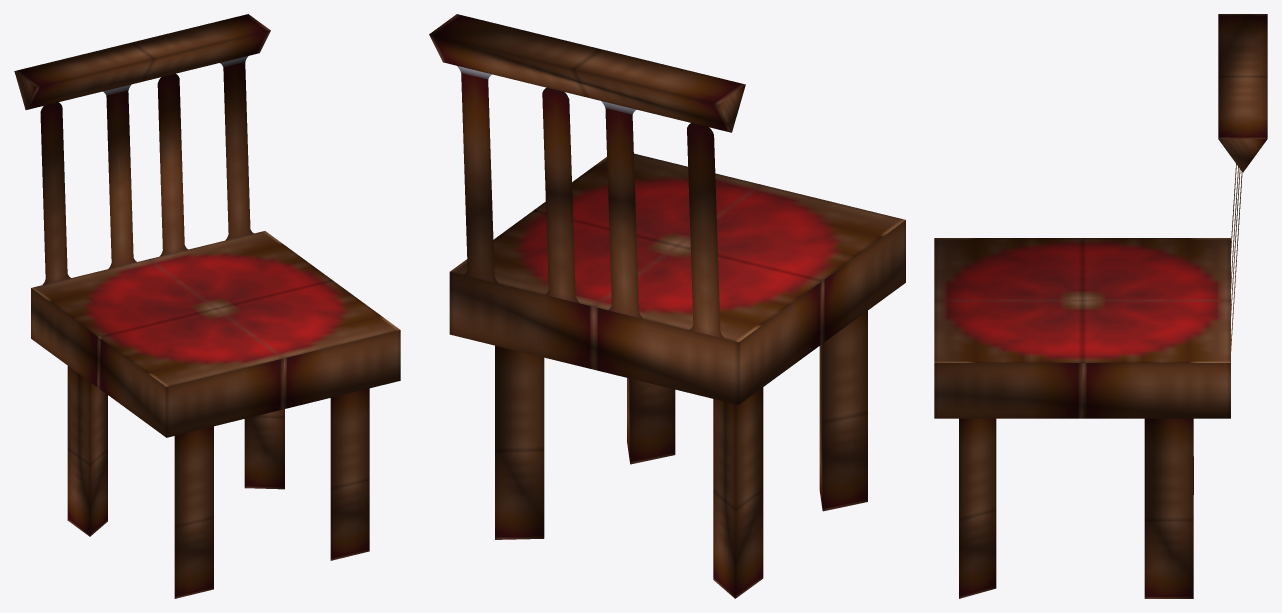
The picture shows the model from 3 angles, left to right: view 1: azimuth 30°, elevation 25°; view 2: azimuth 150°, elevation 25°; view 3: azimuth 270°, elevation 25°; orthographic projection. The views are drawn at different scales.
Parts seen in each view (by area): view 1: T1L4M009_13; view 2: T1L4M009_13; view 3: T1L4M009_13.
Part boxes in pixels (bbox=[...]): T1L4M009_13: bbox=[14, 14, 400, 598]; T1L4M009_13: bbox=[429, 14, 905, 598]; T1L4M009_13: bbox=[934, 14, 1267, 598].
Bounding box in the file's own units: 0.4795 × 0.8408 × 0.54.
